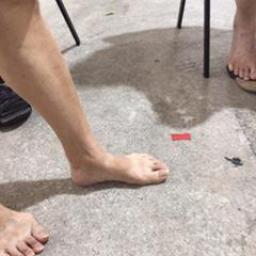Medial View -Left Foot-: (56, 131, 172, 193)
